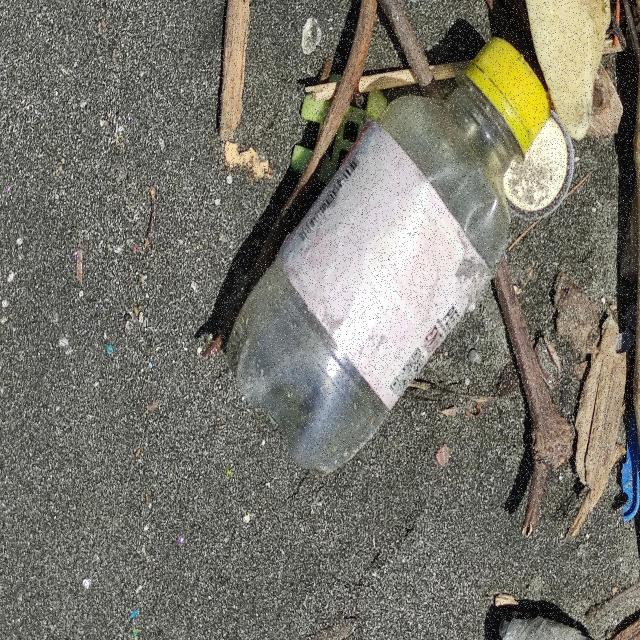plastic_waste: (228, 36, 550, 478)
